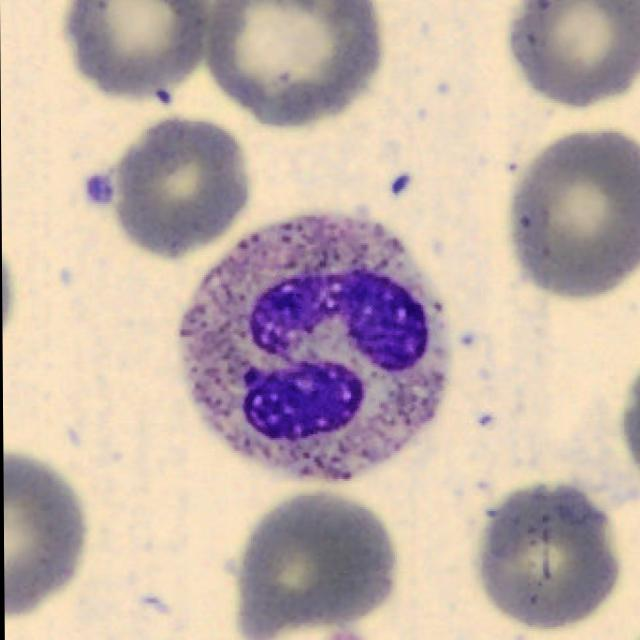Neutrofilo segmentado: (178, 213, 449, 485)
